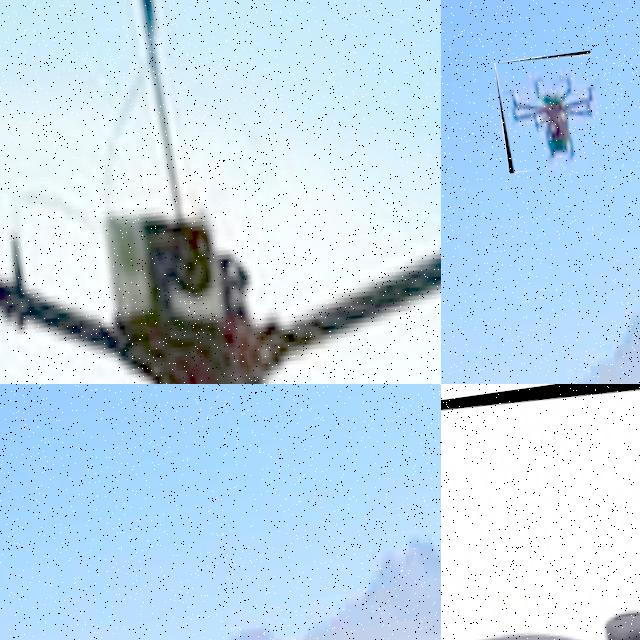0: (494, 50, 606, 174)
drone: (0, 0, 441, 384), (441, 384, 640, 640)
